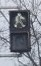walk: (8, 8, 31, 30)
